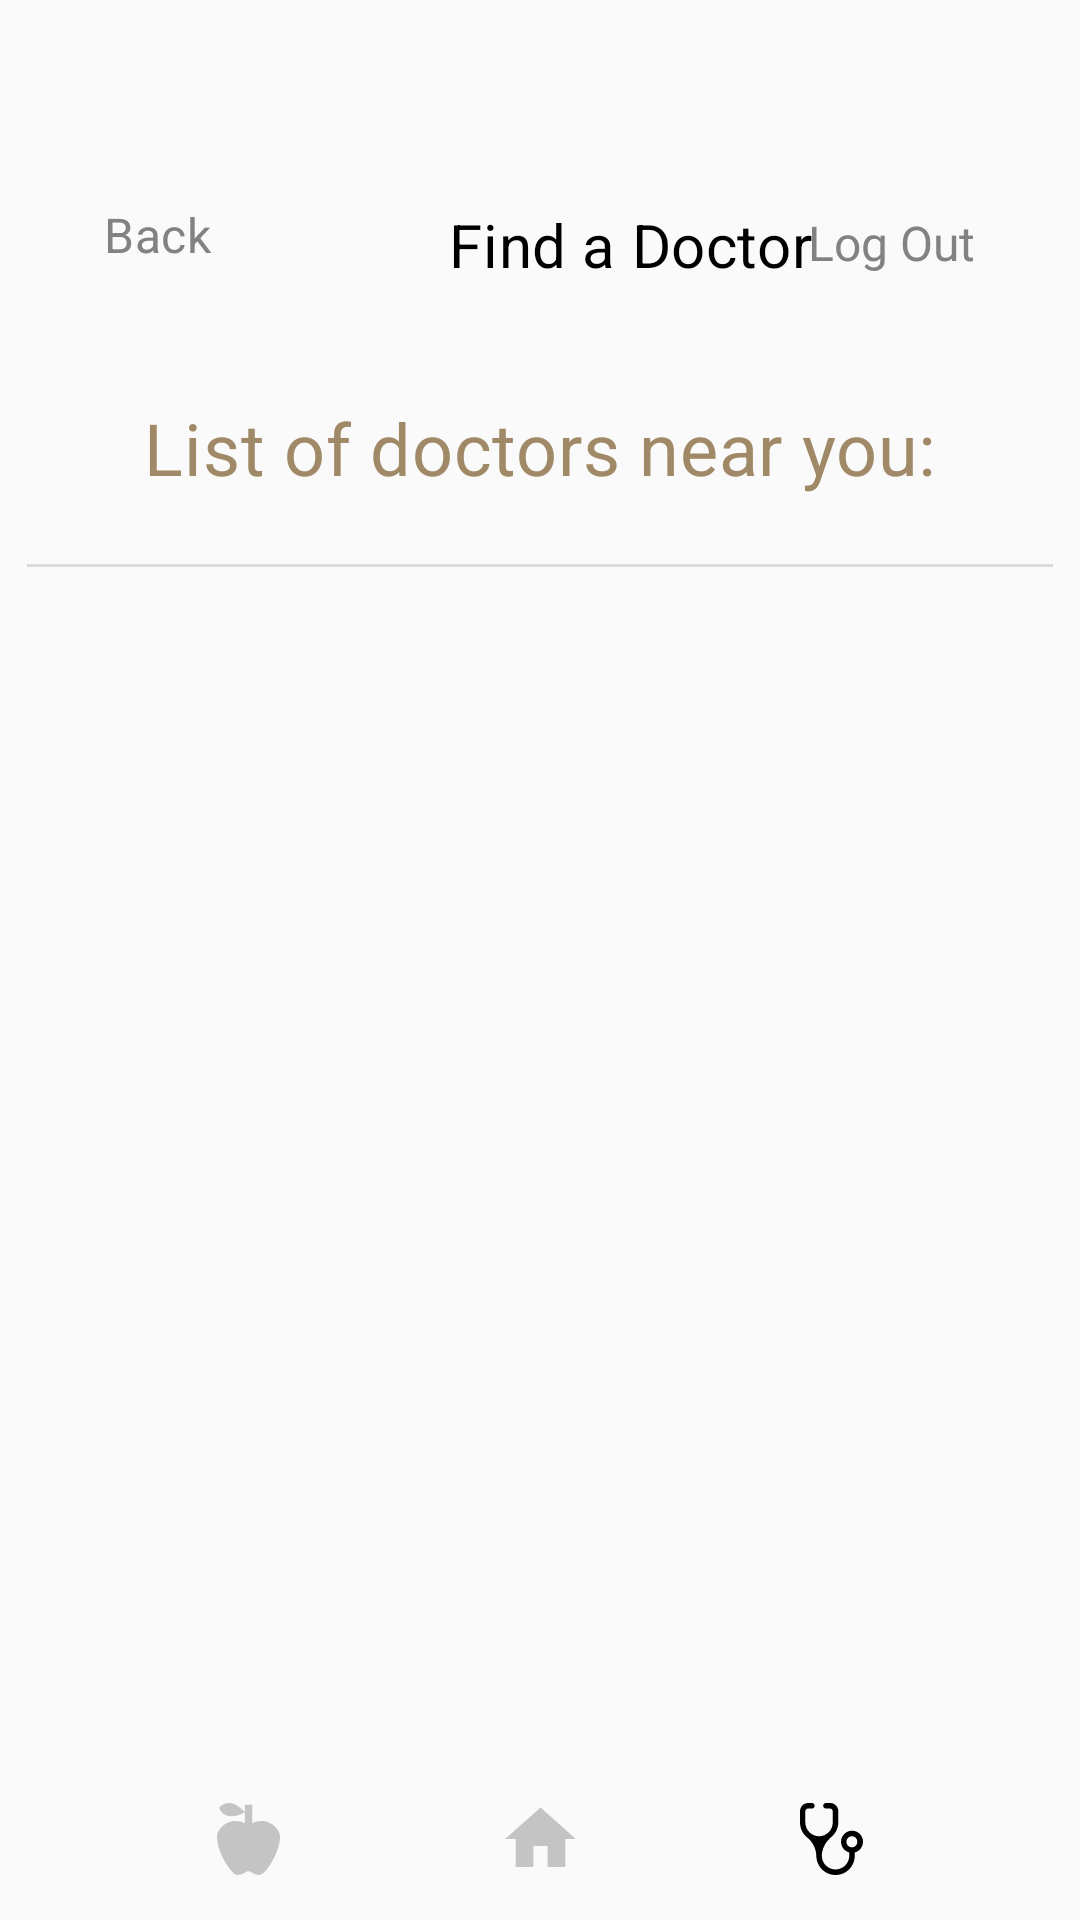

Icons on this 1080×1920 Android screen, each with its box as (x1, y1, x2, y2):
Find a Doctor: (800, 1803, 863, 1875)
Food Tracker: (217, 1803, 280, 1875)
Home: (506, 1808, 575, 1867)
